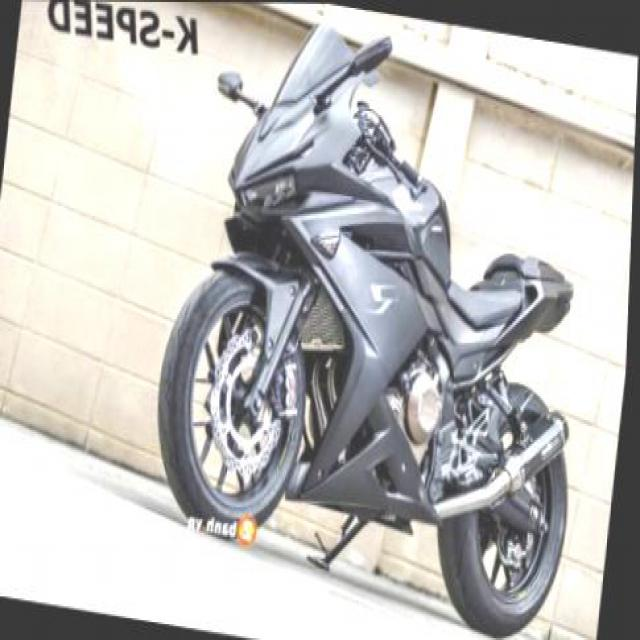CBR500R: (136, 0, 620, 638)
